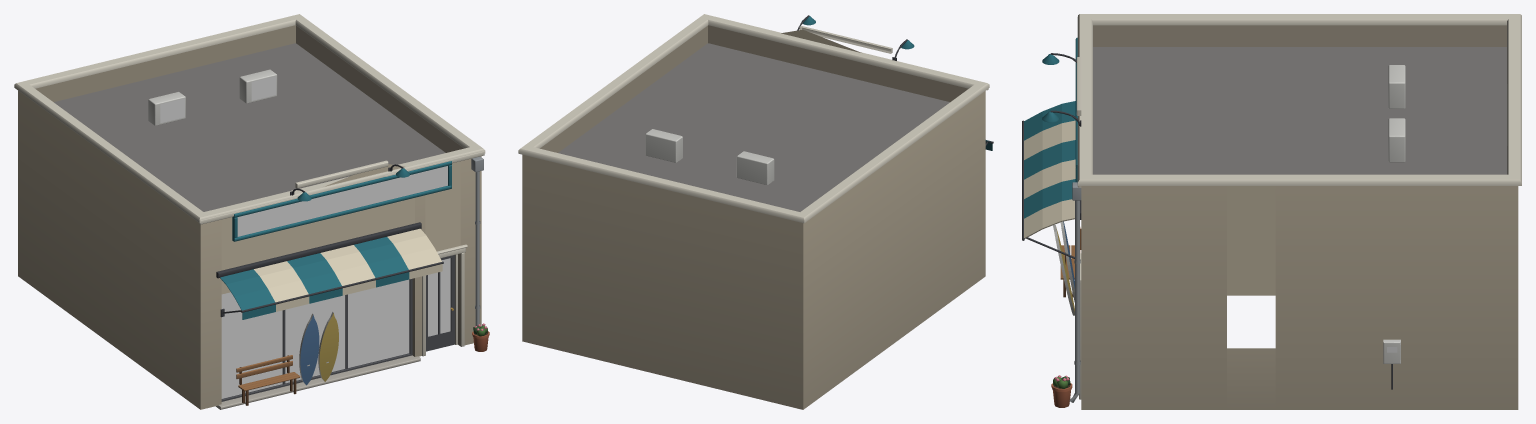
The model's file is ShopBeach.fbx.
3 renders of one model, left to right at view 1: azimuth 30°, elevation 25°; view 2: azimuth 150°, elevation 25°; view 3: azimuth 270°, elevation 25°, orthographic. The views are drawn at different scales.
Parts seen in each view (by area): view 1: ShopBeach; view 2: ShopBeach; view 3: ShopBeach.
Boxes of the visible parts, left/top/right/bottom form: ShopBeach: left=14, top=14, right=489, bottom=409; ShopBeach: left=518, top=14, right=993, bottom=409; ShopBeach: left=1022, top=14, right=1521, bottom=409.
Size of the model in its own units: 8.22 by 5.67 by 10.29.
